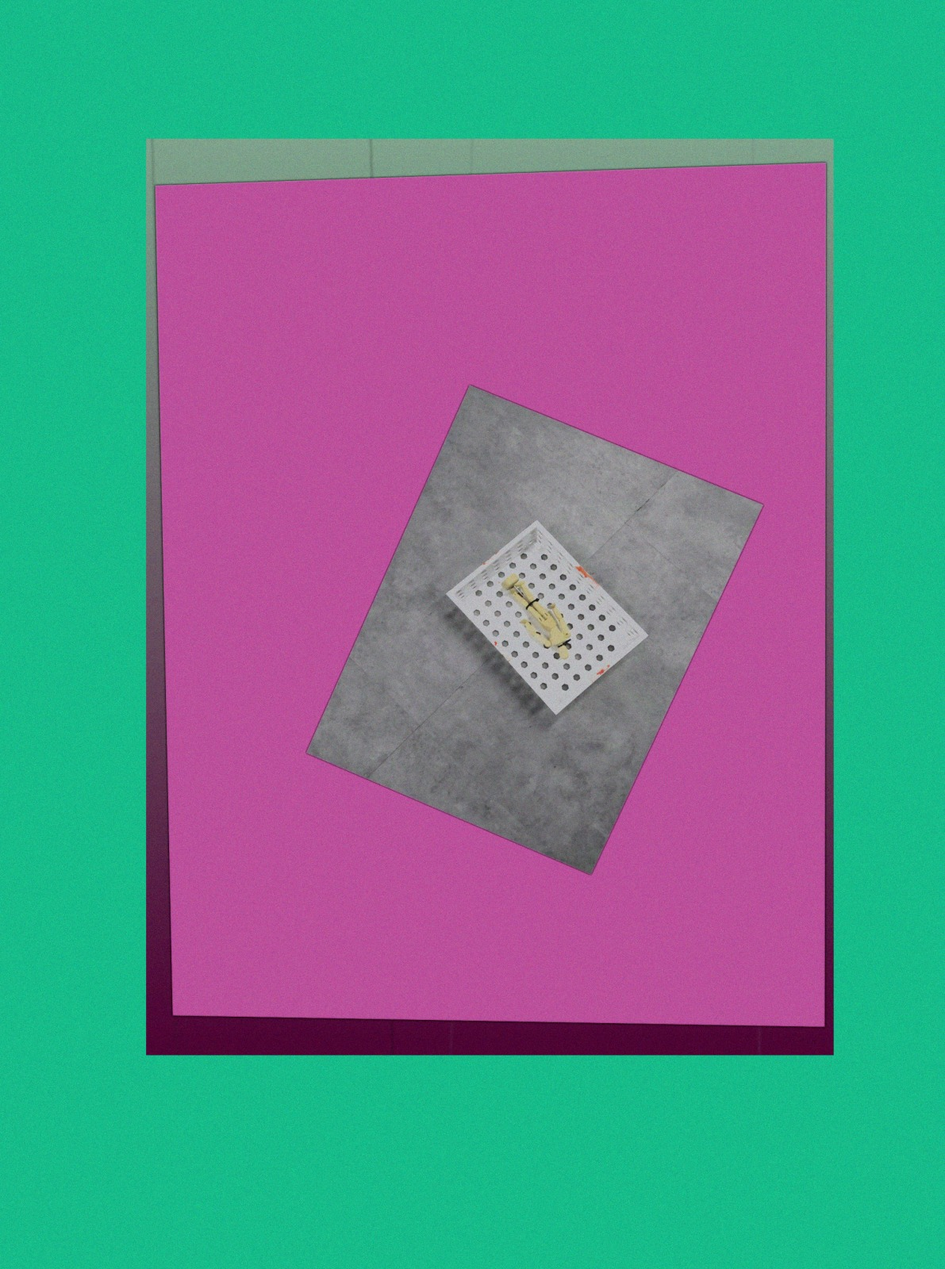basket: (440, 511, 653, 724)
mannequin: (497, 569, 580, 662)
